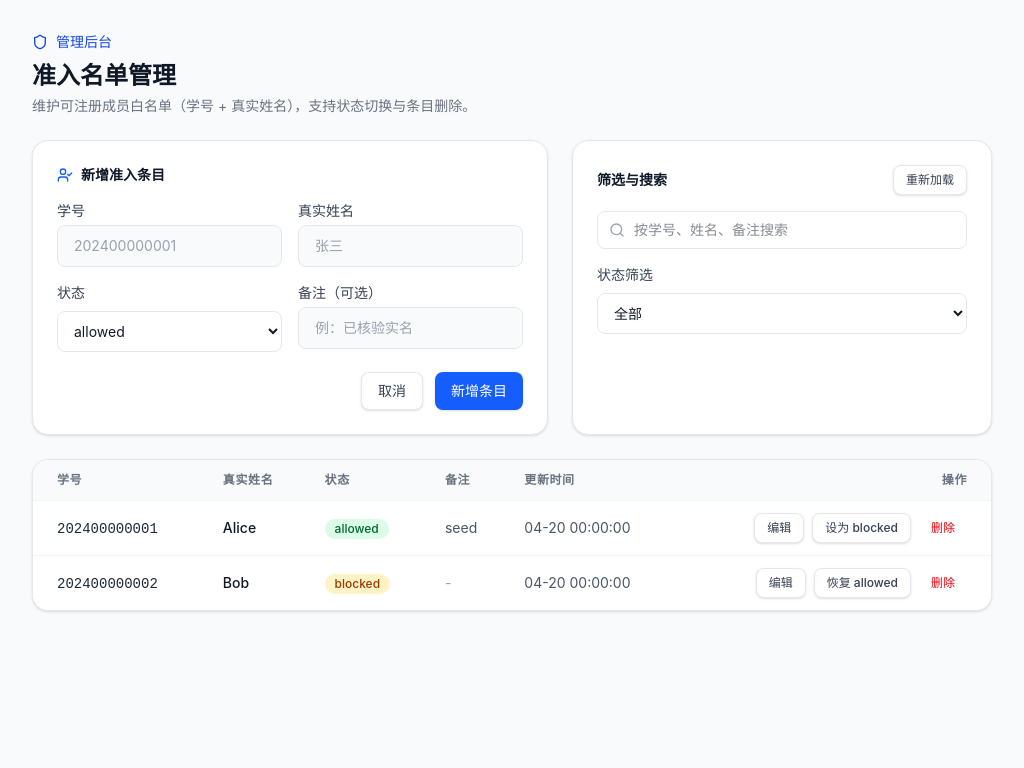
AdminMemberEligibilityPage › loads and filters entries from admin API
Check: the text "Alice" is shown, box [223,519,256,536]
Select "blocked" in the dropdown labelled "状态筛选" at (782, 314), box [597,293,967,334]
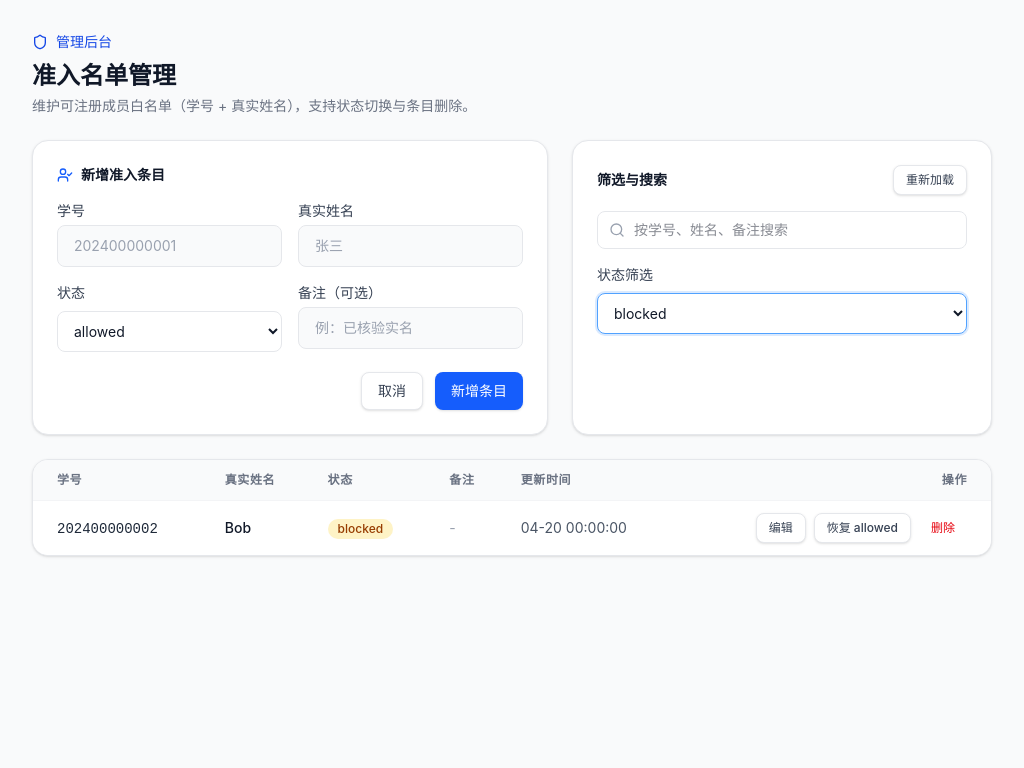
Check: the text "Bob" is shown, box [225,519,251,536]
Check: the text "Alice" is gone
